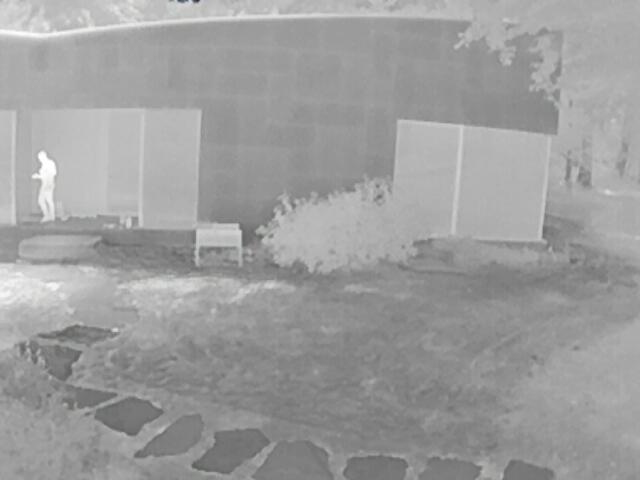person: (31, 148, 56, 224), (35, 152, 38, 157)
